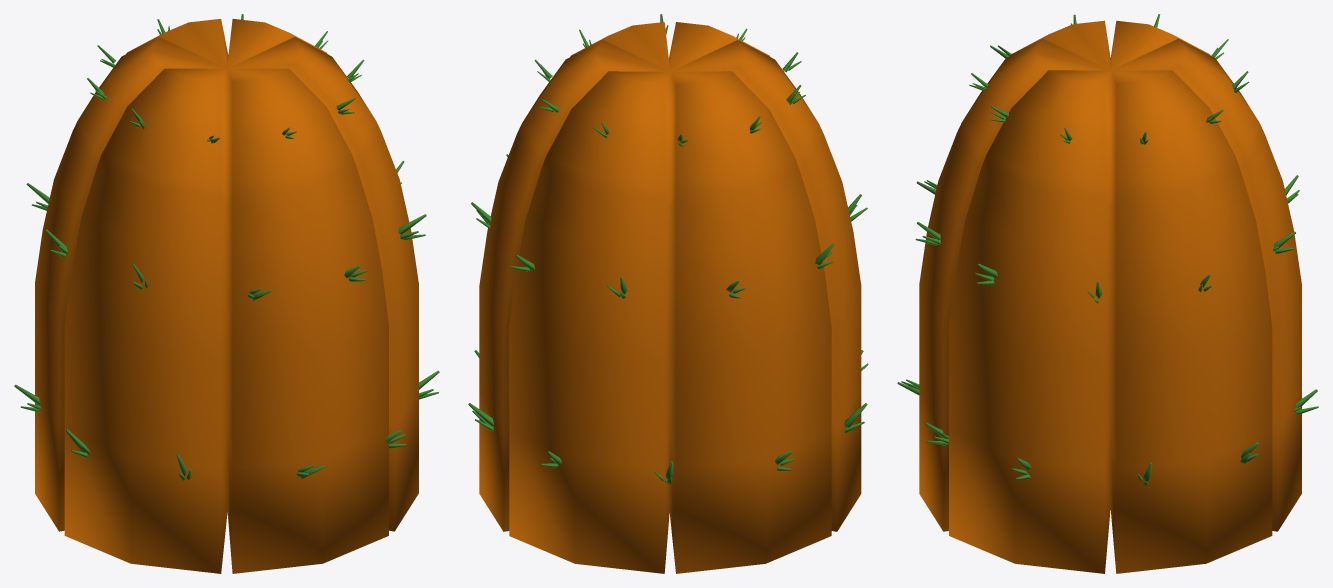
File: cactus1_low.fbx
3 renders of one model, left to right at view 1: azimuth 30°, elevation 25°; view 2: azimuth 150°, elevation 25°; view 3: azimuth 270°, elevation 25°, orthographic.
Parts seen in each view (by area): view 1: Cylinder002, Spike_low012, Spike_low038, Spike_low039; view 2: Cylinder002, Spike_low012, Spike_low038, Spike_low039; view 3: Cylinder002, Spike_low038, Spike_low012, Spike_low039.
Boxes of the visible parts, x1,y1,x2,y2 form: Cylinder002: (35,19,418,573); Spike_low012: (14,370,439,480); Spike_low038: (26,161,426,300); Spike_low039: (87,14,364,143); Cylinder002: (479,22,861,573); Spike_low012: (468,350,868,484); Spike_low038: (471,154,867,298); Spike_low039: (534,14,805,146); Cylinder002: (919,20,1301,573); Spike_low038: (915,175,1299,303); Spike_low012: (897,379,1318,485); Spike_low039: (969,14,1249,144).
Bounding box in the file's own units: 109 × 132 × 112.
